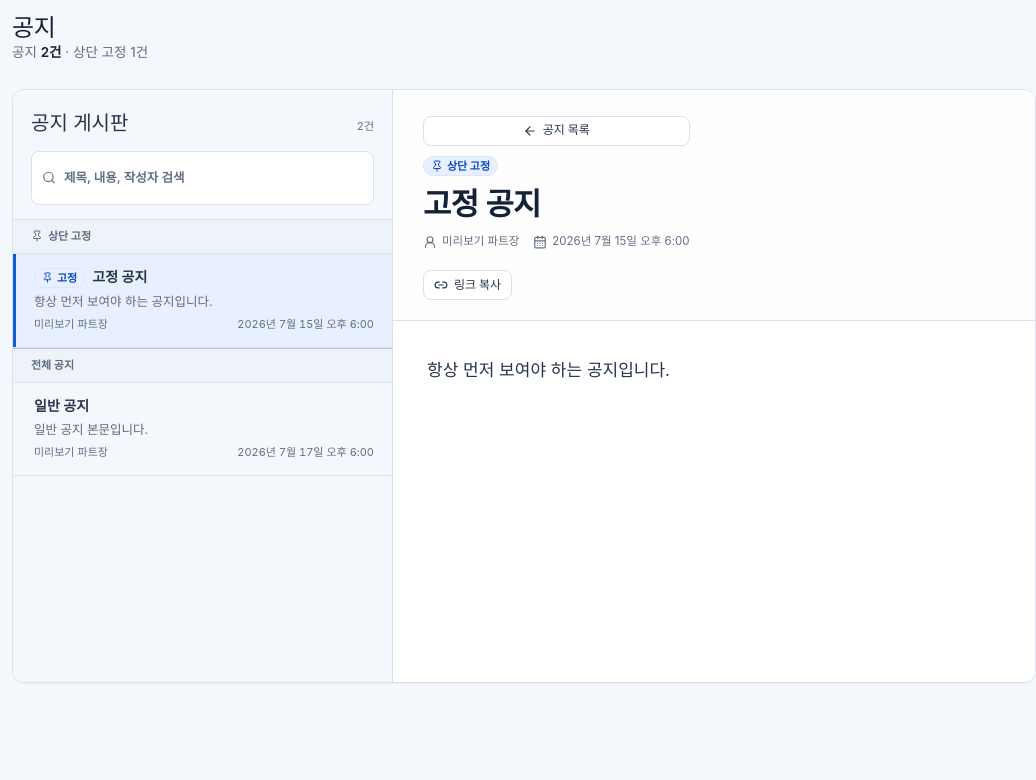
Scenario: AnnouncementsPanel › filters by title or body and selects the first visible result
Step 1. Type "일반" into the field named "공지 검색" → (214, 178), box x1=64 y1=158 x2=363 y2=196
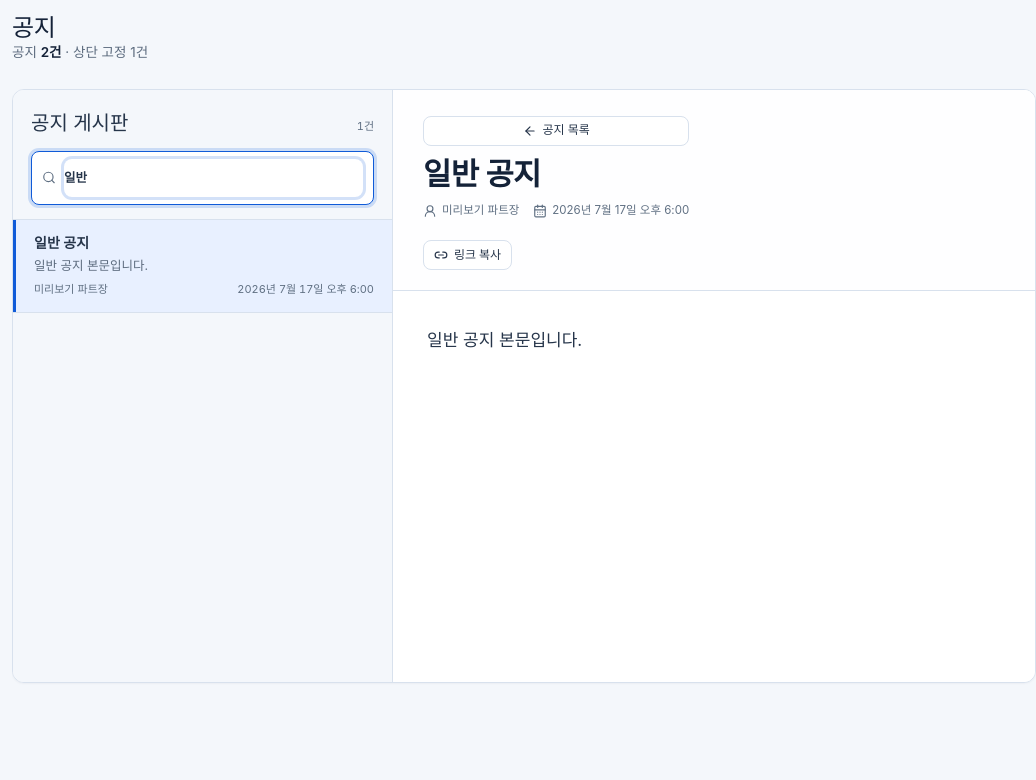
Expected: the text "일반 공지" is shown, x1=34 y1=234 x2=89 y2=252
Now the button "고정 공지" is gone
Now the heading "일반 공지" is shown, box x1=423 y1=154 x2=541 y2=192
